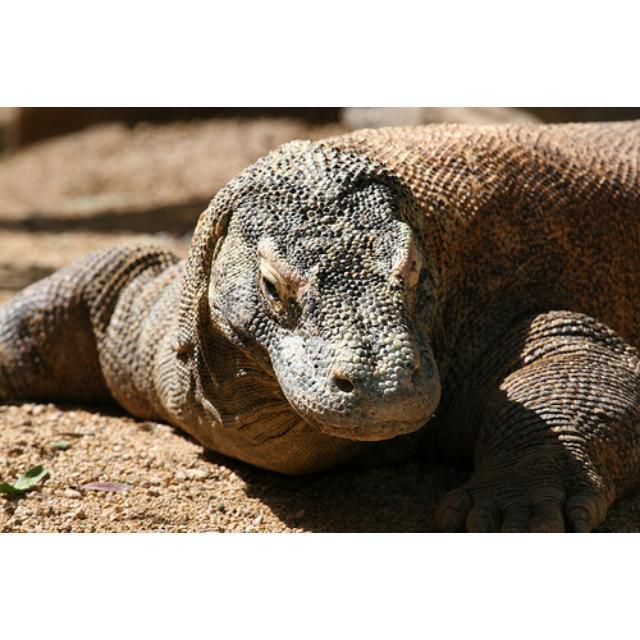KomodoDragon: (3, 118, 640, 531)
